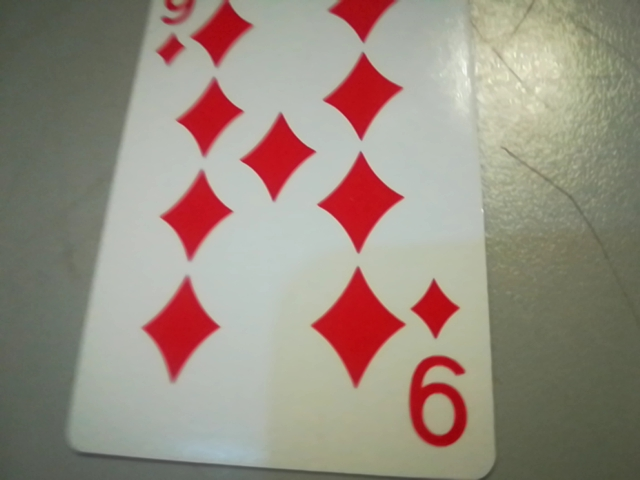fk 9: (397, 262, 487, 461)
